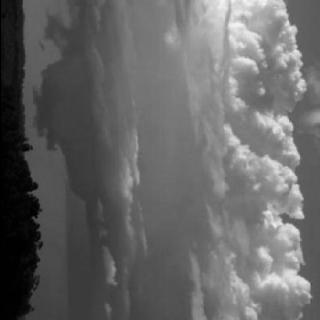Cumulus: (42, 0, 301, 320)
